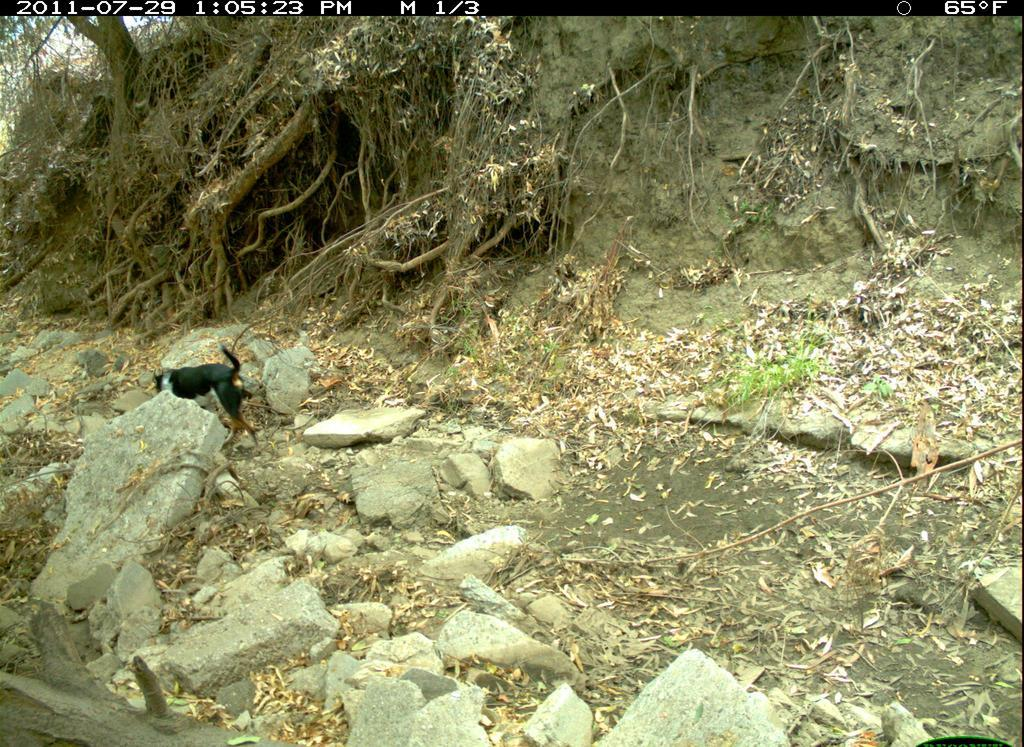dog: (158, 344, 260, 451)
